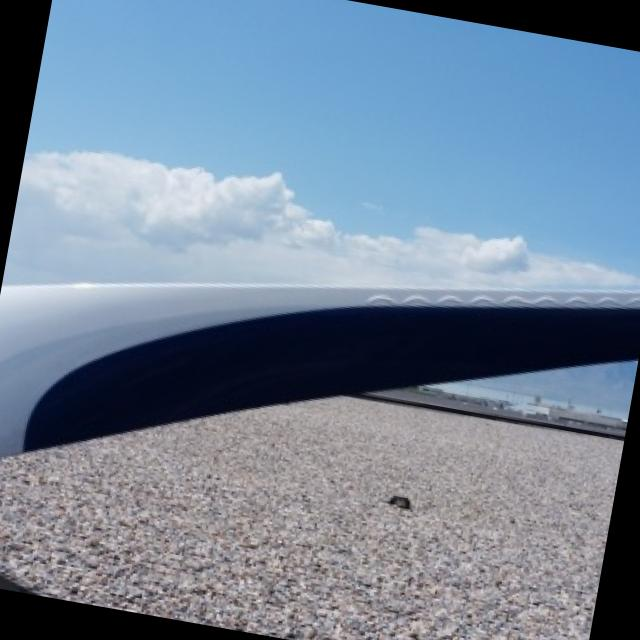healthy: (0, 279, 640, 452)
